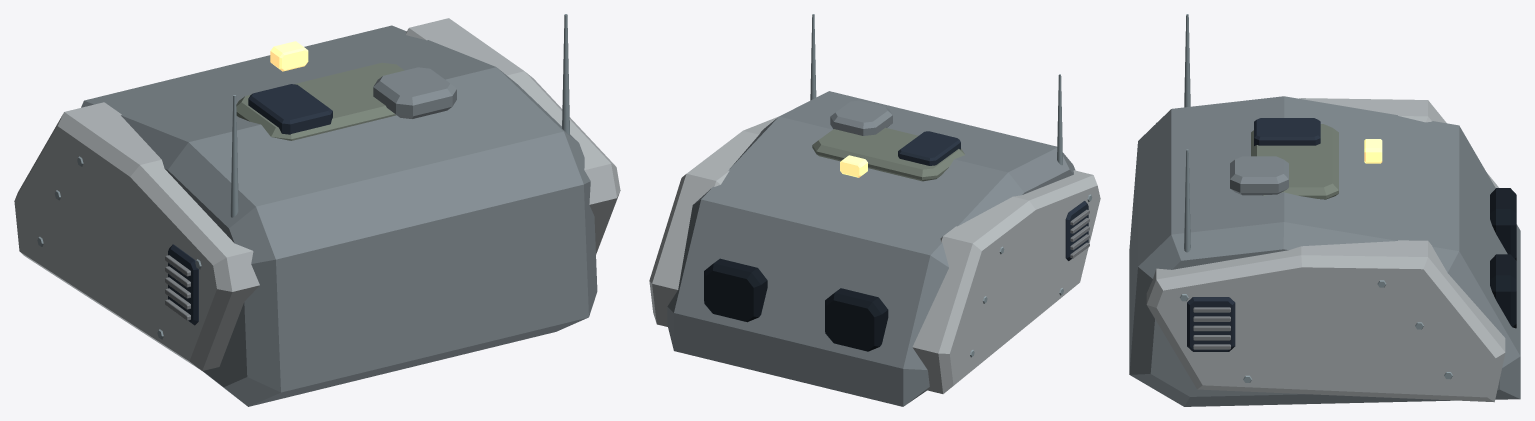
File: dreadnought_housing.glb
The picture shows the model from 3 angles, left to right: view 1: azimuth 30°, elevation 25°; view 2: azimuth 150°, elevation 25°; view 3: azimuth 270°, elevation 25°; orthographic projection. The views are drawn at different scales.
Visible parts, largest first — view 1: dreadnought_housing; view 2: dreadnought_housing; view 3: dreadnought_housing.
Boxes of the visible parts, left/top/right/bottom form: dreadnought_housing: left=14, top=14, right=620, bottom=406; dreadnought_housing: left=649, top=14, right=1100, bottom=406; dreadnought_housing: left=1129, top=14, right=1520, bottom=406.
Bounding box in the file's own units: 3.77 × 2.69 × 3.64.
